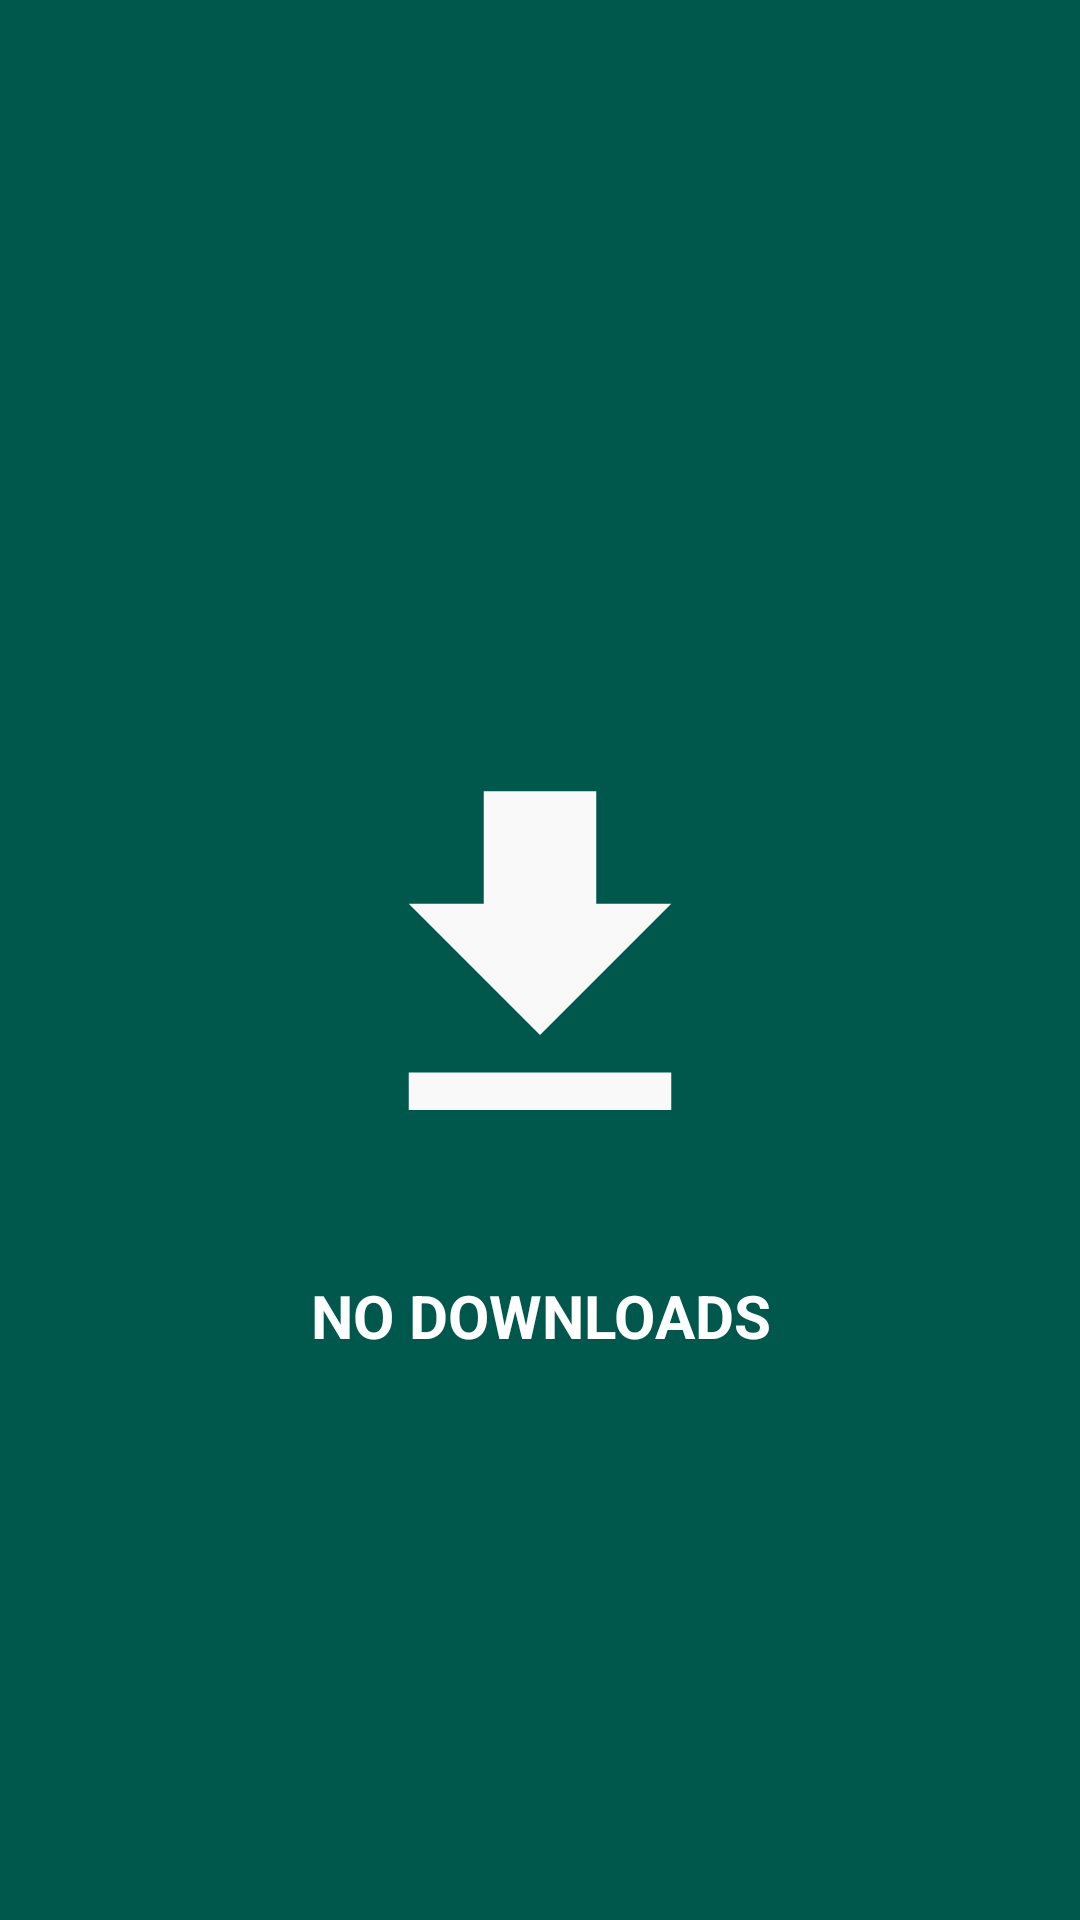

Icons on this 1080px×1920px Android screen, each with its box as Rect(x1, y1, x2, y2):
file download: Rect(408, 791, 672, 1110)
